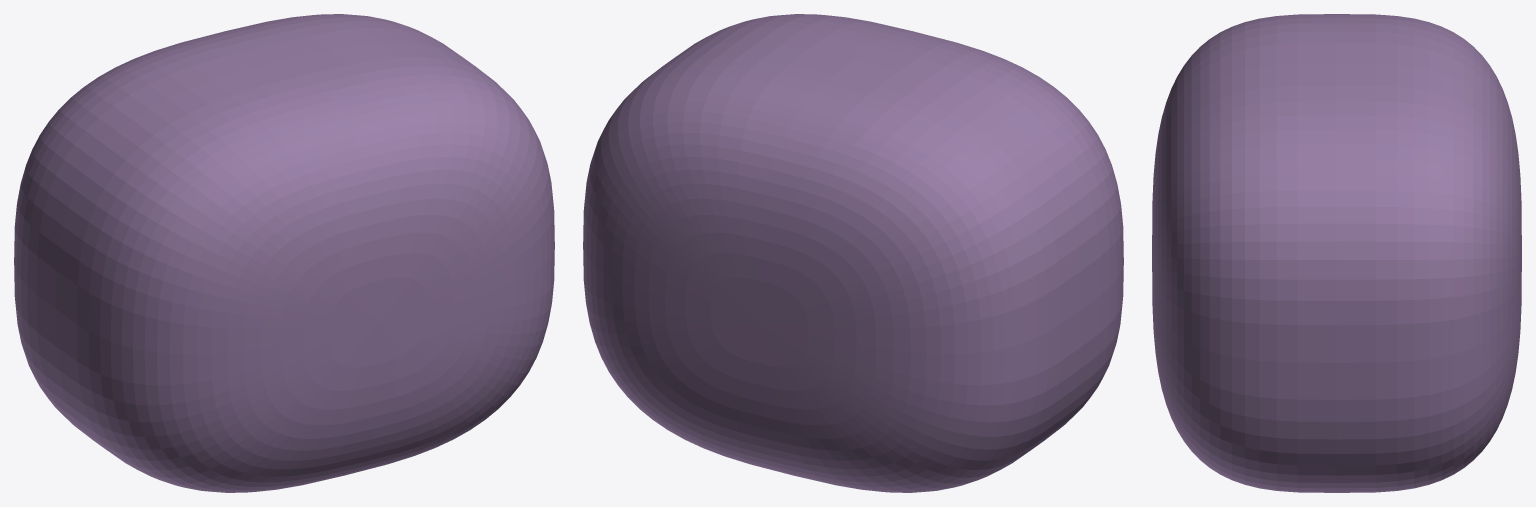
Rendered from liver_tumor.glb.
The picture shows the model from 3 angles, left to right: view 1: azimuth 30°, elevation 25°; view 2: azimuth 150°, elevation 25°; view 3: azimuth 270°, elevation 25°; orthographic projection.
Visible parts, largest first — view 1: liver_tumor; view 2: liver_tumor; view 3: liver_tumor.
Part boxes in pixels (box(x1,y1,x2,y2)): liver_tumor: box(14, 14, 554, 492); liver_tumor: box(583, 14, 1123, 492); liver_tumor: box(1152, 14, 1521, 492).
Bounding box in the file's own units: 0.042 × 0.034 × 0.03.
